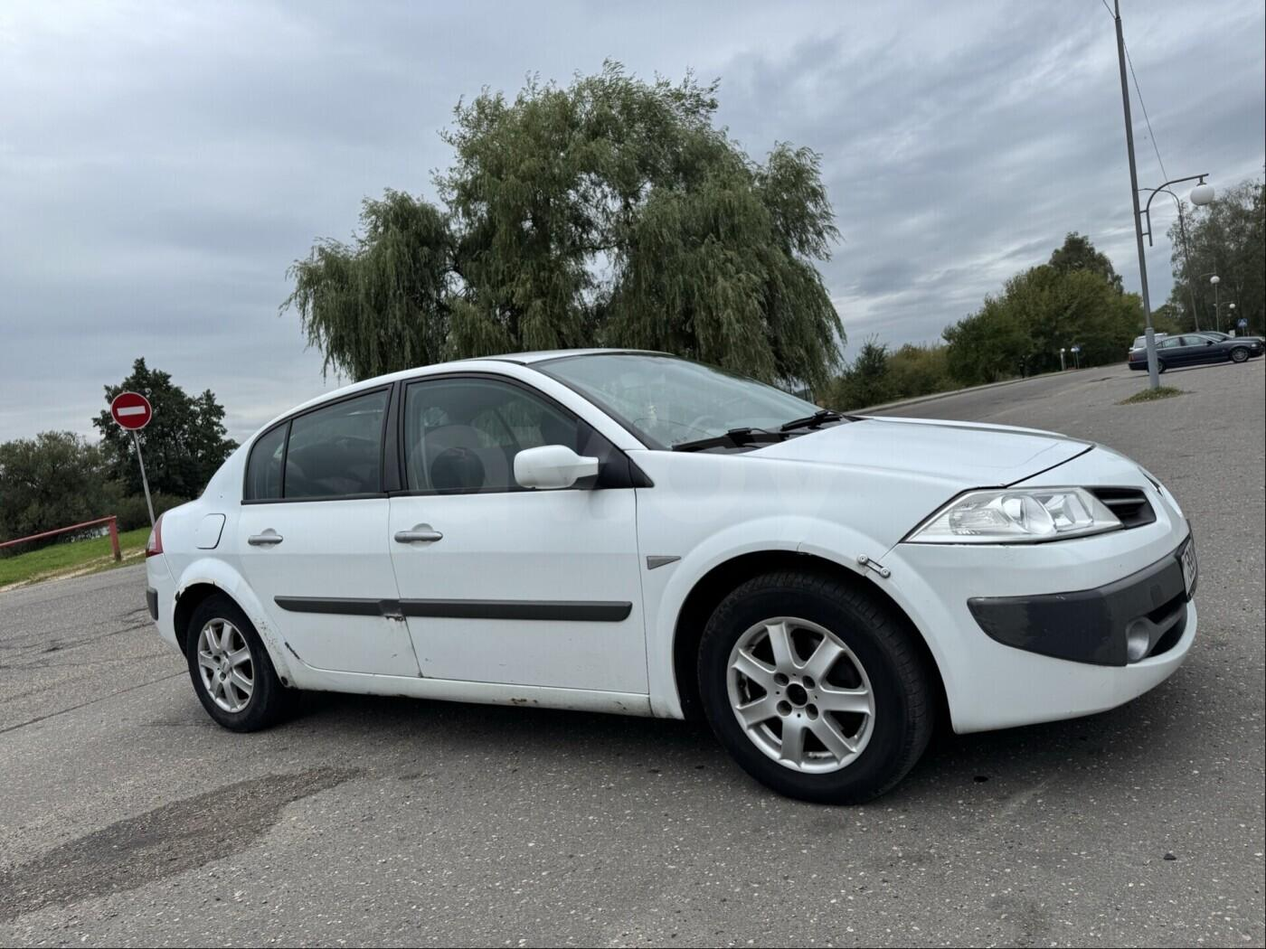Megane_2005-2009: (129, 343, 1198, 798)
